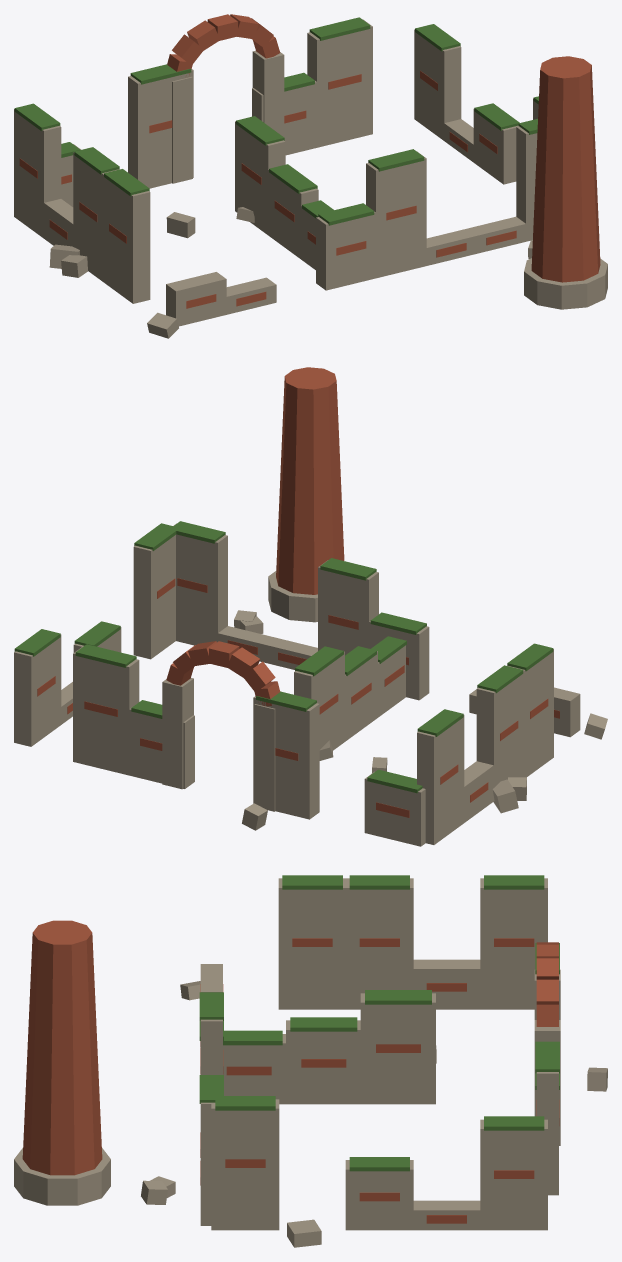
The model's file is ruinas.glb.
3 renders of one model, top to bottom at view 1: azimuth 30°, elevation 25°; view 2: azimuth 150°, elevation 25°; view 3: azimuth 270°, elevation 25°, orthographic. The views are drawn at different scales.
Visible parts, largest first — view 1: ruinas; view 2: ruinas; view 3: ruinas.
Part boxes in pixels (x1,y1,x2,y2): ruinas: (14,14,607,338); ruinas: (14,367,607,846); ruinas: (14,875,607,1247).
Size of the model in its own units: 16.54 by 7.64 by 15.91.
